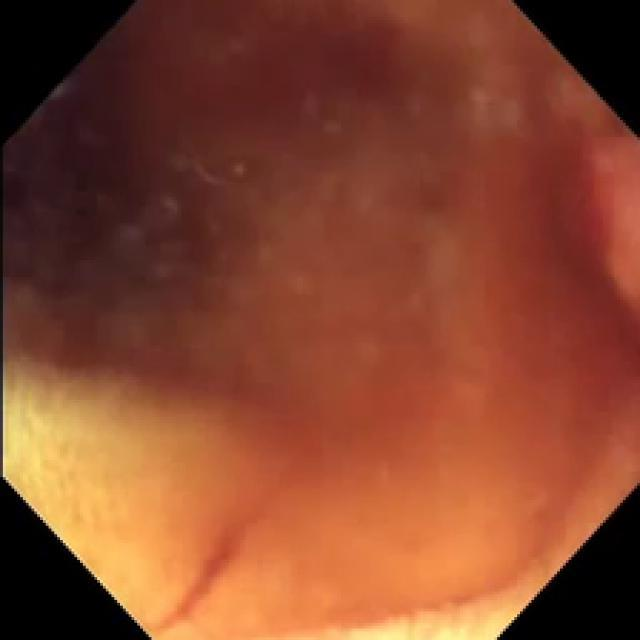bleeding: (8, 5, 640, 634)
